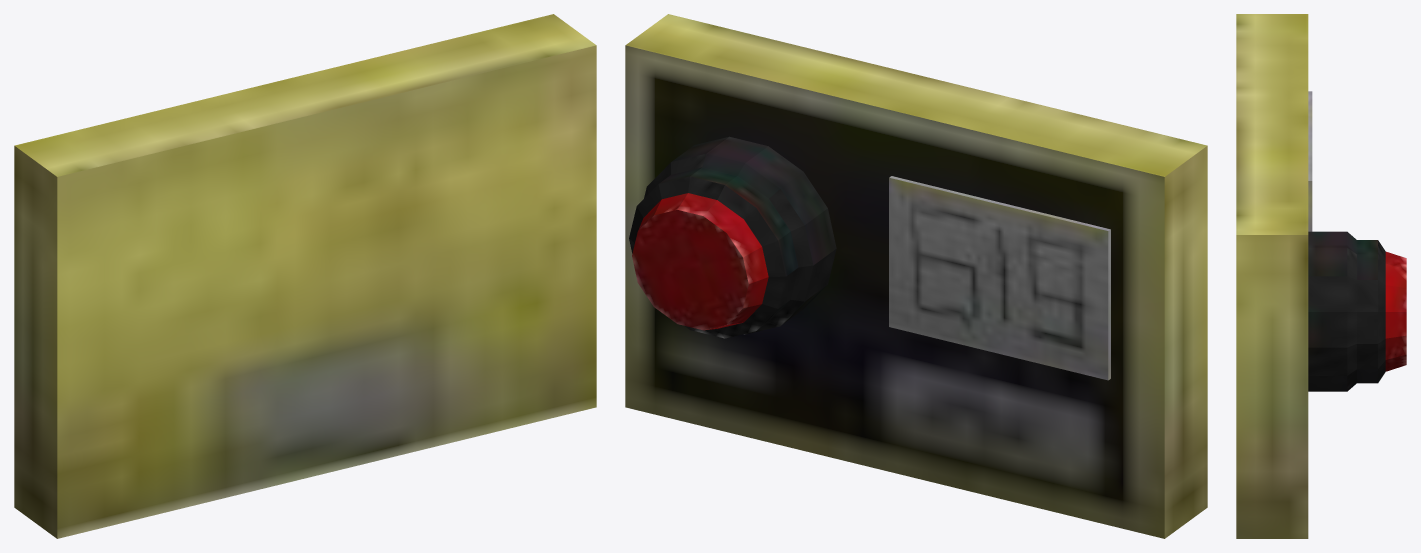
The model's file is water level meter.fbx.
3 renders of one model, left to right at view 1: azimuth 30°, elevation 25°; view 2: azimuth 150°, elevation 25°; view 3: azimuth 270°, elevation 25°, orthographic. The views are drawn at different scales.
Visible parts, largest first — view 1: water level meter; view 2: water level meter; view 3: water level meter.
Part boxes in pixels (x1,y1,x2,y2): water level meter: (14,14,596,538); water level meter: (625,14,1207,538); water level meter: (1236,14,1406,538).
Bounding box in the file's own units: 312 × 200 × 102.
